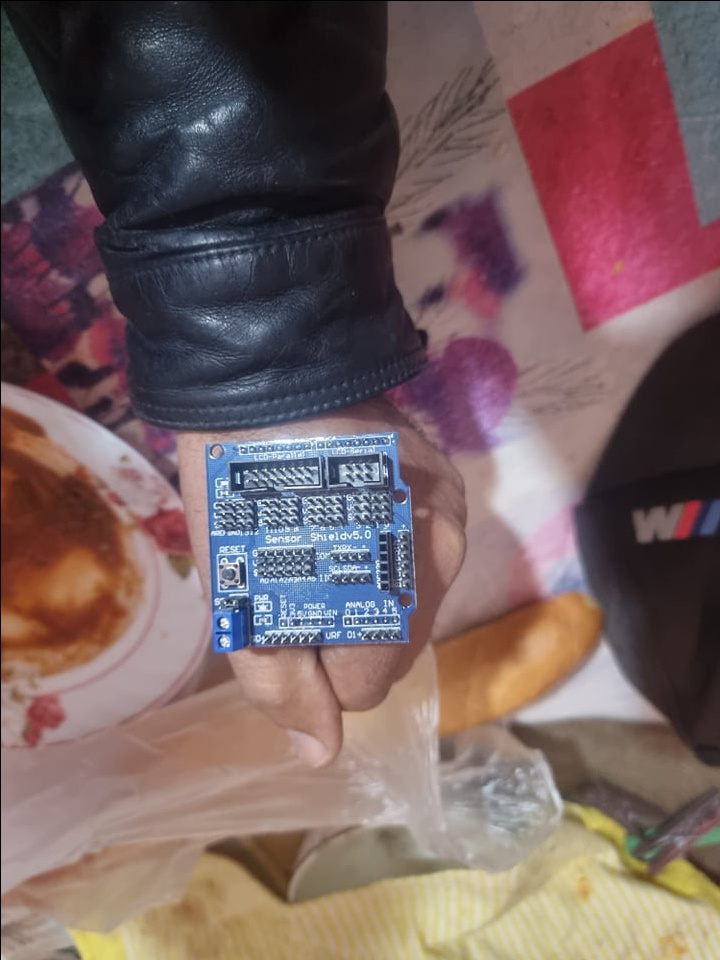5V EXPANSION: (203, 440, 418, 654)
